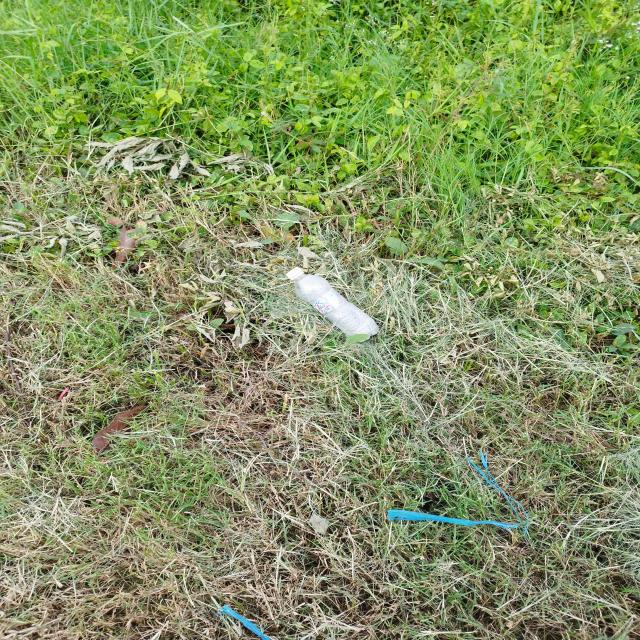bottle: (285, 266, 380, 342)
